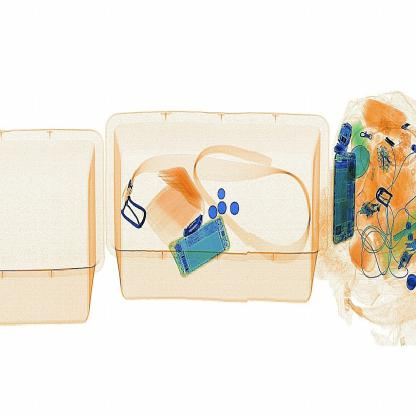knife: (166, 212, 212, 242)
